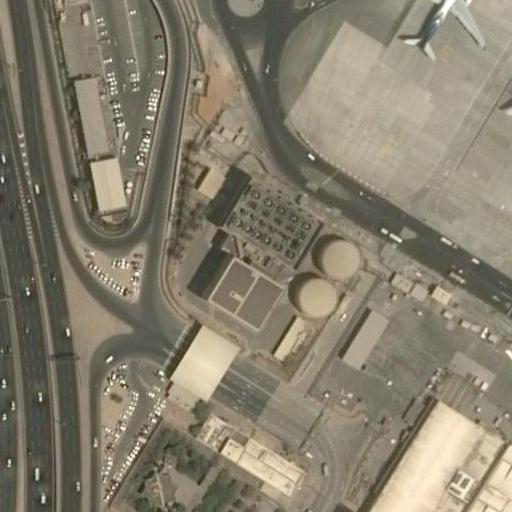Aircraft: (385, 0, 487, 58), (501, 63, 512, 170)
